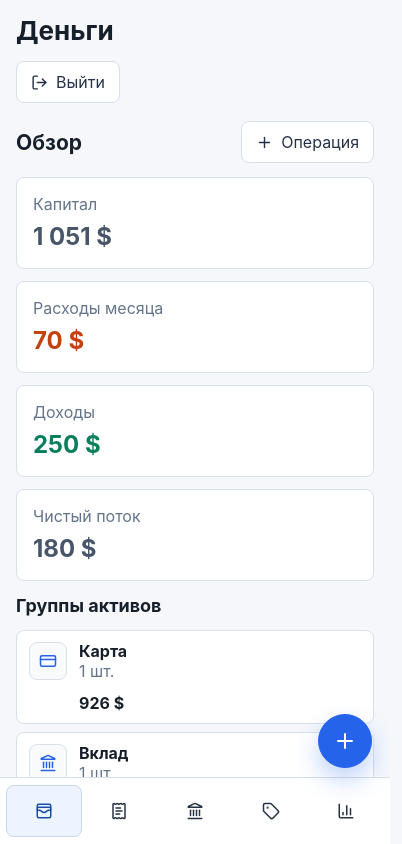
Test case: PWA finance experience › opens operations, assets and categories from the mobile bottom navigation
Expected: the heading "Деньги" is shown, [16, 16, 114, 45]
What coordinates should you click on to do the following:
click the button with test id "mobile-nav-operations"
I would click on:
 (119, 811)
Its box is [82, 785, 157, 837].
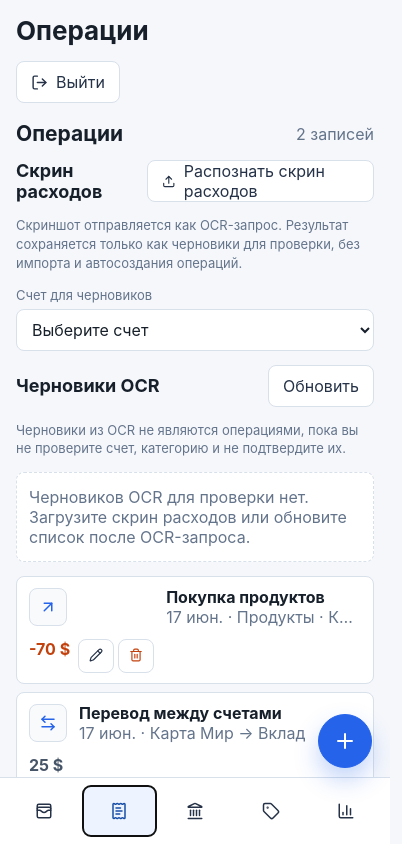
Expected: the 1st heading "Операции" is shown, [16, 16, 149, 45]
What coordinates should you click on to do the following:
click the button with test id "mobile-nav-assets"
I would click on:
 (195, 811)
Its box is [157, 785, 233, 837].
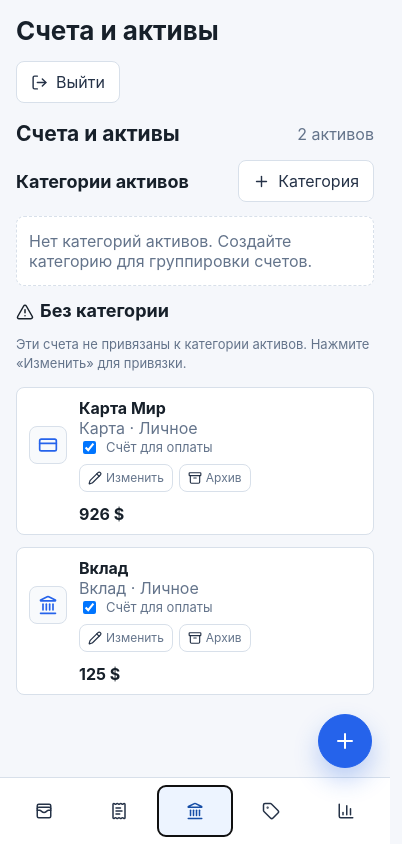
Expected: the 1st heading "Счета и активы" is shown, [16, 16, 219, 45]
What coordinates should you click on to do the following:
click the button named "Категории"
I would click on:
 (271, 811)
Its box is [233, 785, 308, 837].
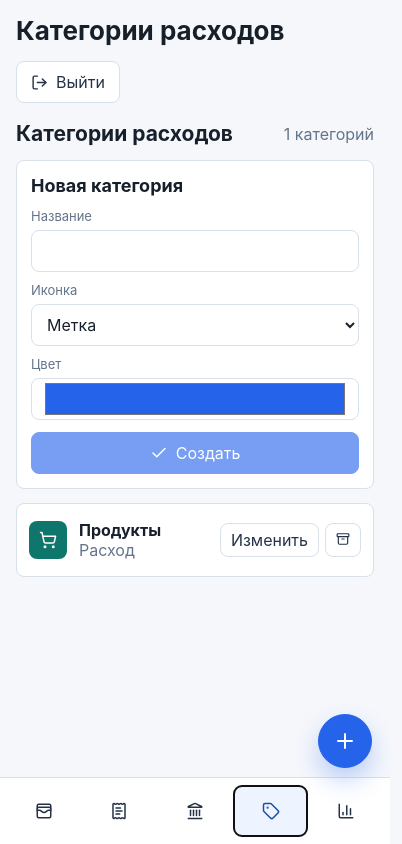
Expected: the 1st heading "Категории расходов" is shown, [16, 16, 284, 45]
Expected: the text "Продукты" is shown, [79, 520, 161, 540]
